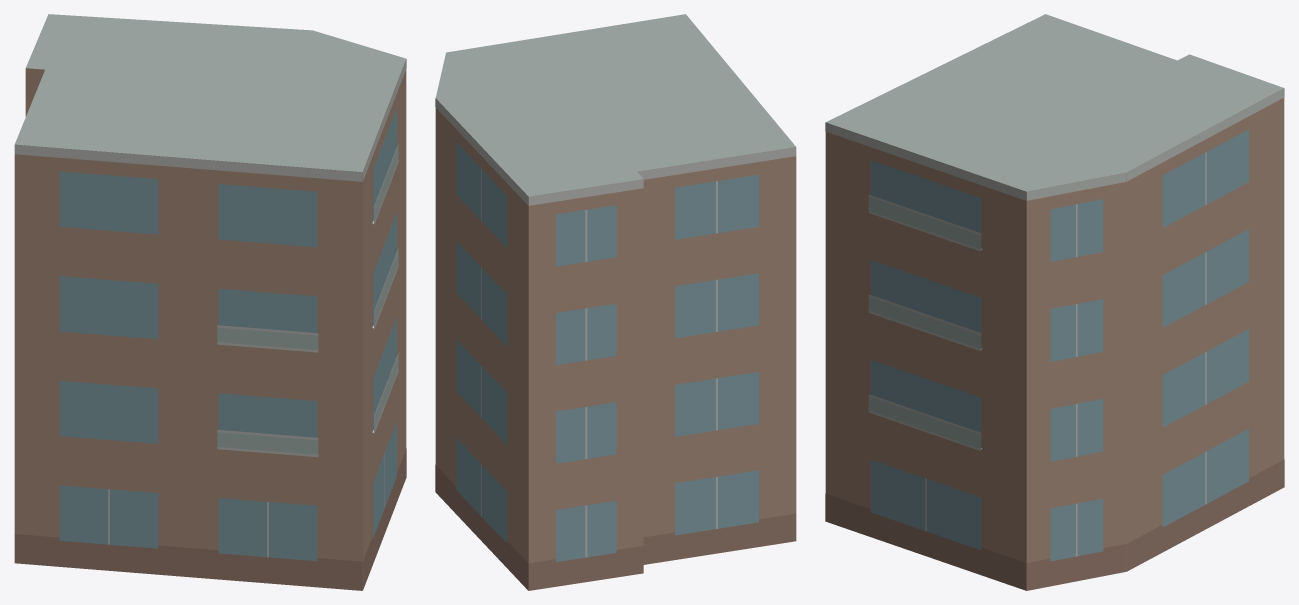
File: survey-upis-32690383.glb
3 views of the same model, side by side, from view 1: azimuth 30°, elevation 25°; view 2: azimuth 150°, elevation 25°; view 3: azimuth 270°, elevation 25° (orthographic). The views are drawn at different scales.
Visible parts, largest first — view 1: survey-upis-32690383.tmp; view 2: survey-upis-32690383.tmp; view 3: survey-upis-32690383.tmp.
Boxes of the visible parts, x1,y1,x2,y2 form: survey-upis-32690383.tmp: [14, 14, 406, 590]; survey-upis-32690383.tmp: [435, 14, 796, 590]; survey-upis-32690383.tmp: [825, 14, 1284, 590].
Size of the model in its own units: 10.08 by 10.55 by 11.
